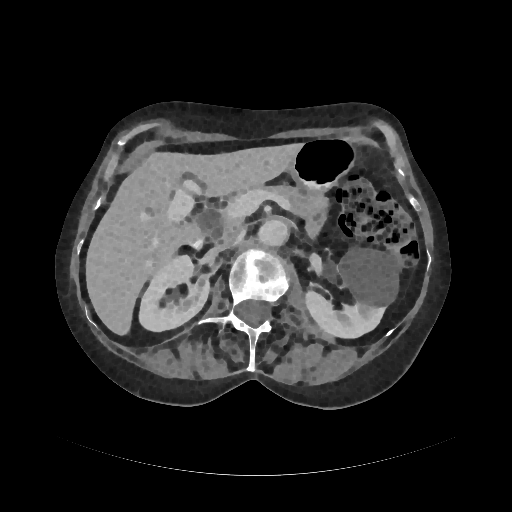Lesion: (335, 235, 401, 309)
